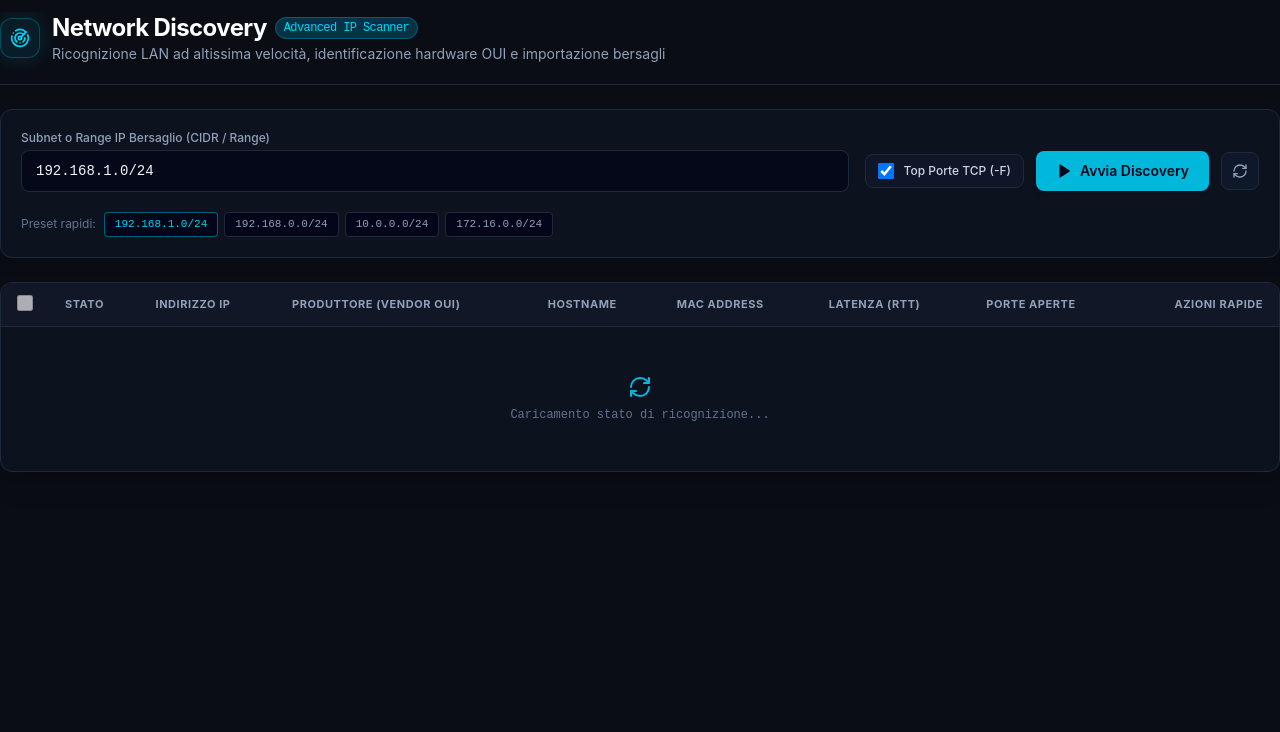
NetworkDiscovery Live Real-Time SSE Integration › streams progressive progress and newly discovered devices into the table in real-time
Click Avvia Discovery
Click the button "Avvia Discovery".
click(1122, 171)  # box [1036,151,1209,191]
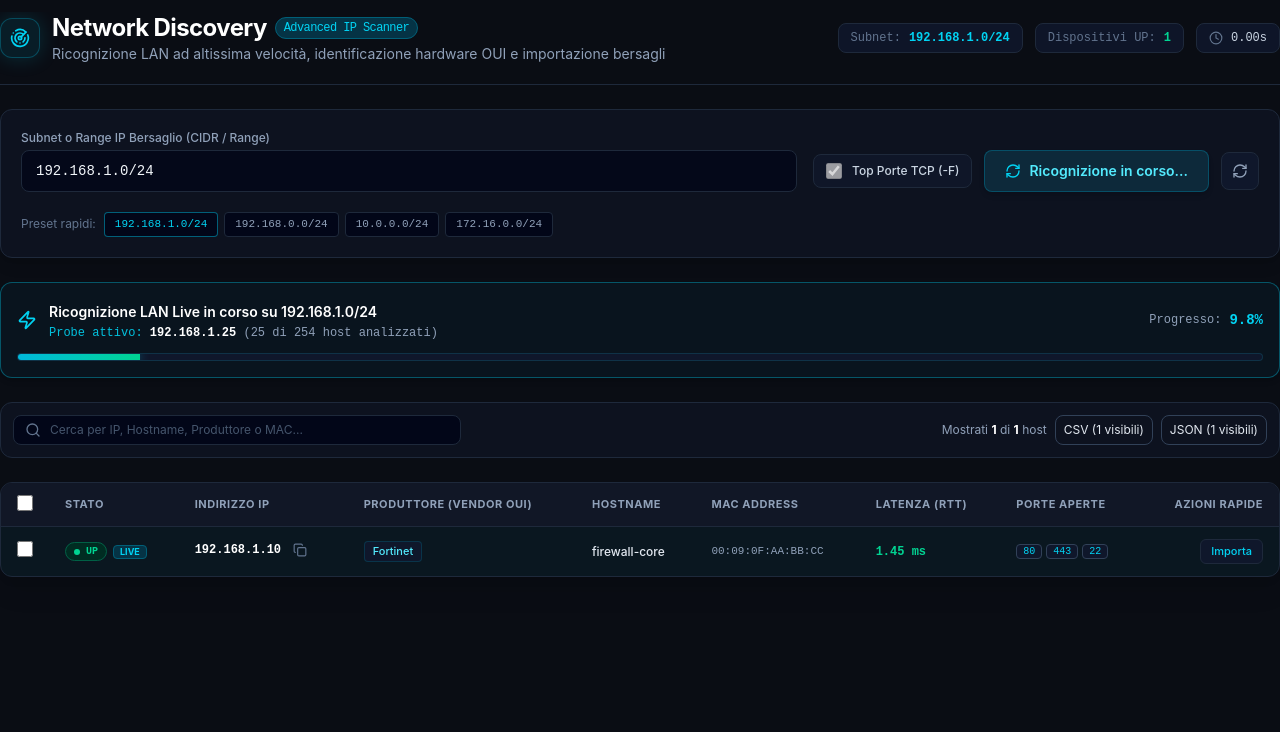
Expected: the text "Ricognizione LAN Live in corso su 192.168.1.0/24" is shown, [49,303,377,320]
Expected: the text "192.168.1.25" is shown, [150,326,236,340]
Expected: the text "(25 di 254 host analizzati)" is shown, [244,326,438,340]
Selezione dispositivo durante la scansione attiva
Click the checkbox named "Seleziona tutti i dispositivi visualizzati".
click(25, 503)  # box [17,495,33,511]
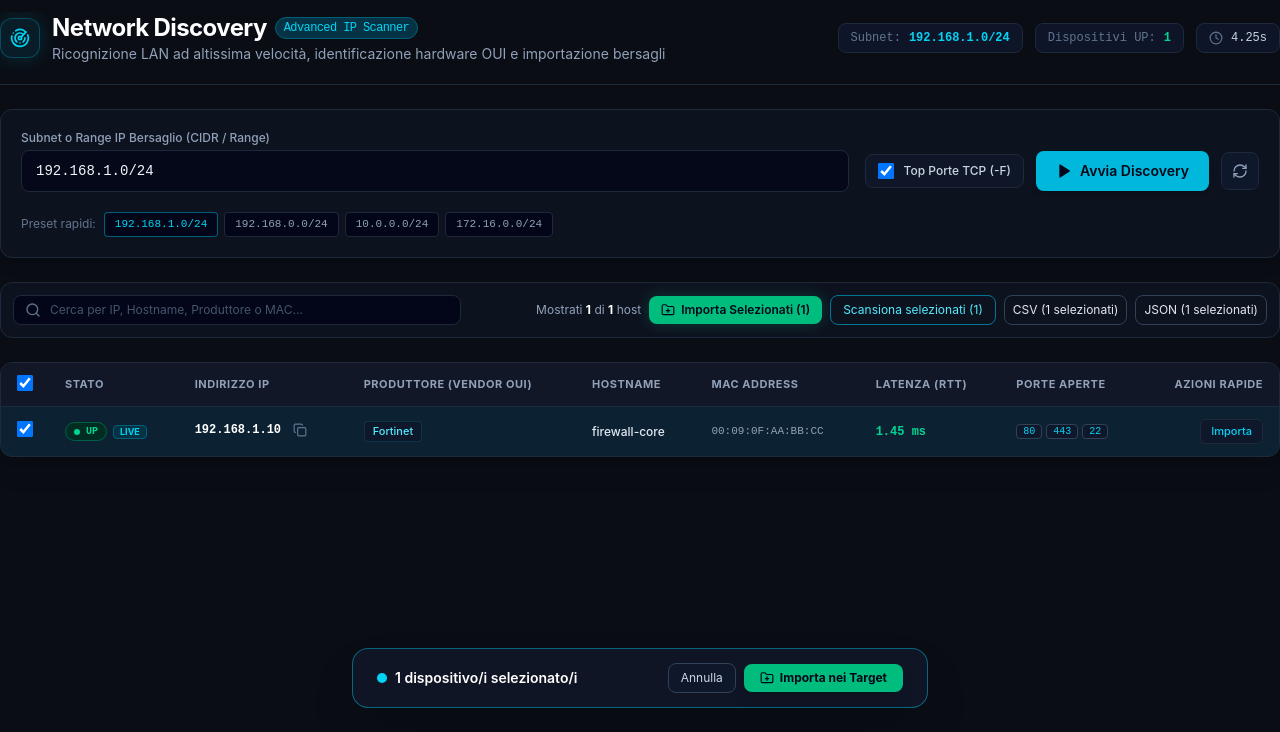
Expected: the text "Importa Selezionati (1)" is shown, [681,302,810,318]
Expected: the text "Ricognizione LAN Live in corso" is gone
Expected: the text "4.25s" is shown, [1231,30,1267,46]
